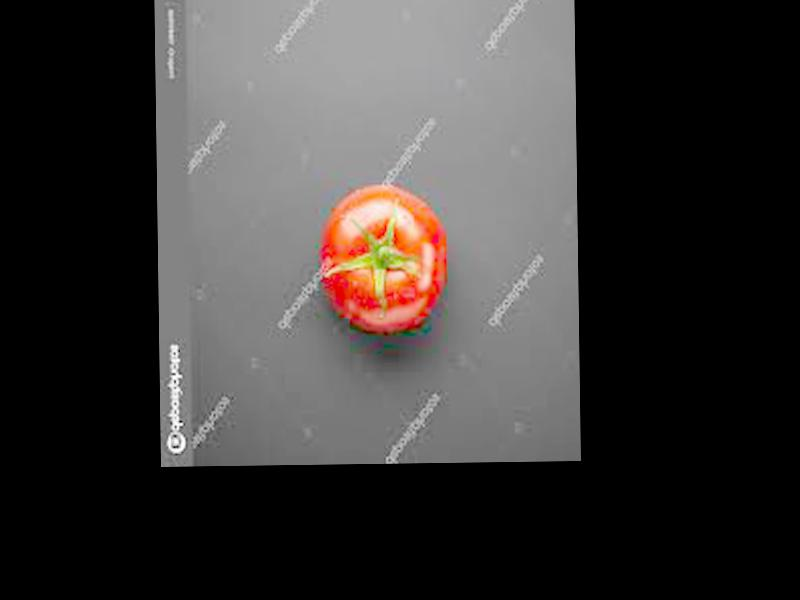Tomato: (318, 181, 449, 331)
